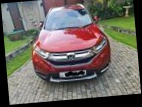car: (27, 1, 114, 86)
